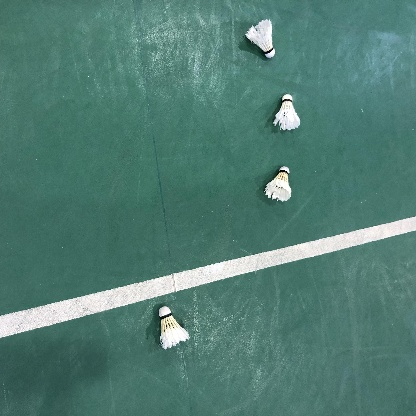ball_single: (158, 306, 190, 350), (245, 19, 275, 58), (264, 166, 292, 202), (273, 94, 300, 131)
